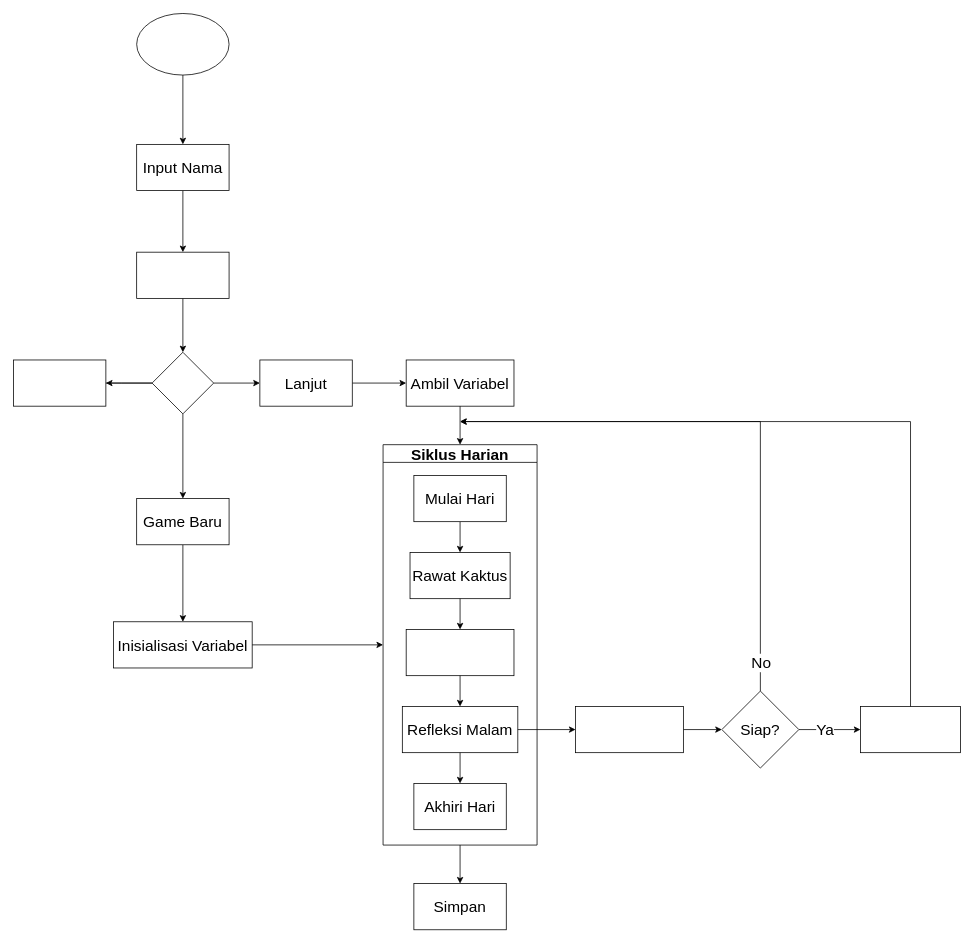
This 974x943 diagram has some shape labels left out. The centre of each missing label's shape, as x and y in pixels:
Keluar: point (59, 382)
Menu Utama: point (182, 274)
Misi Harian: point (459, 652)
Mulai: point (182, 44)
Pindah Tahap: point (910, 729)
Sistem Pakar: point (629, 729)
